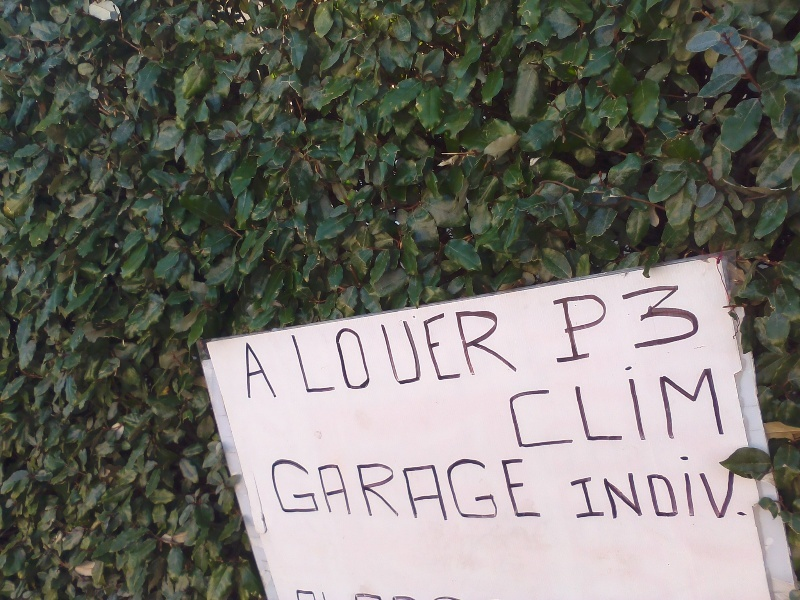text: (513, 354, 528, 452), (529, 354, 544, 452), (545, 354, 560, 452), (561, 354, 576, 452), (577, 354, 592, 452), (593, 354, 608, 452), (609, 354, 624, 452), (625, 354, 640, 452), (641, 354, 656, 452), (657, 354, 672, 452), (673, 354, 688, 452), (689, 354, 704, 452), (705, 354, 720, 452), (305, 303, 320, 397), (321, 303, 336, 397), (337, 303, 352, 397), (353, 303, 368, 397), (369, 303, 384, 397), (385, 303, 400, 397), (401, 303, 416, 397), (417, 303, 432, 397), (433, 303, 448, 397), (449, 303, 464, 397), (465, 303, 480, 397), (481, 303, 496, 397), (497, 303, 512, 397), (561, 277, 576, 367), (577, 277, 592, 367), (593, 277, 608, 367), (609, 277, 624, 367), (625, 277, 640, 367), (641, 277, 656, 367), (657, 277, 672, 367), (673, 277, 688, 367), (689, 277, 704, 367), (290, 303, 304, 397), (546, 277, 560, 367), (577, 445, 592, 523), (593, 445, 608, 523), (609, 445, 624, 523), (625, 445, 640, 523), (641, 445, 656, 523), (657, 445, 672, 523), (673, 445, 688, 523), (689, 445, 704, 523), (705, 445, 720, 523), (721, 445, 736, 523), (737, 445, 752, 523), (273, 457, 288, 526), (289, 457, 304, 526), (305, 457, 320, 526), (321, 457, 336, 526), (337, 457, 352, 526), (353, 457, 368, 526), (369, 457, 384, 526), (385, 457, 400, 526), (401, 457, 416, 526), (417, 457, 432, 526), (433, 457, 448, 526), (449, 457, 464, 526), (465, 457, 480, 526), (481, 457, 496, 526), (497, 457, 512, 526), (513, 457, 528, 526), (529, 457, 544, 526), (721, 354, 731, 452), (257, 342, 272, 401), (504, 354, 512, 452), (513, 303, 520, 397), (245, 342, 256, 401), (568, 445, 576, 523), (263, 457, 272, 526), (273, 342, 278, 401), (705, 277, 707, 367), (545, 457, 546, 526)
